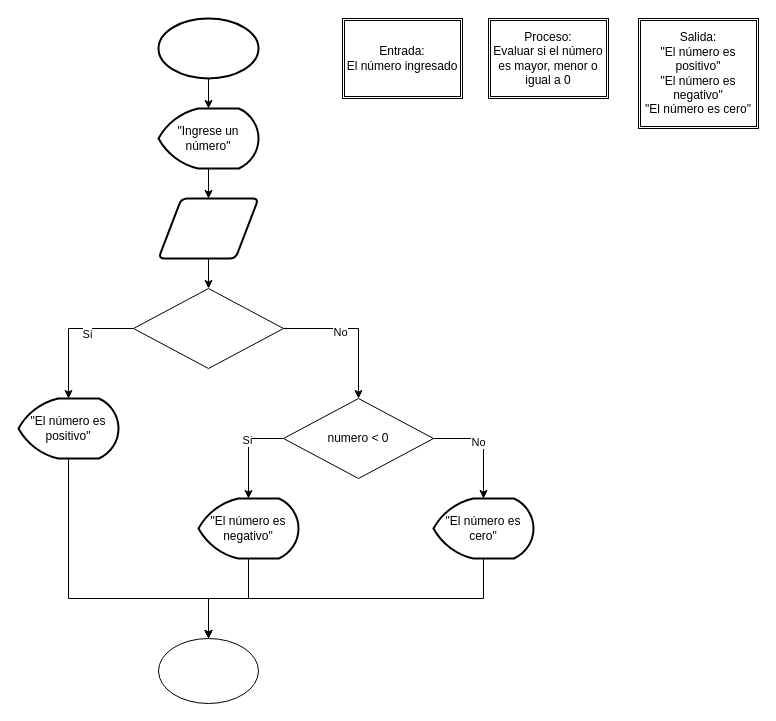
Some shapes in this 776 by 721 pixel diagram are drawn without their labels. Each missing label, with the centre of its shape:
"Fin" belongs at [208,671].
"Inicio" belongs at [208,48].
"numero" belongs at [208,228].
"numero > 0" belongs at [208,328].
